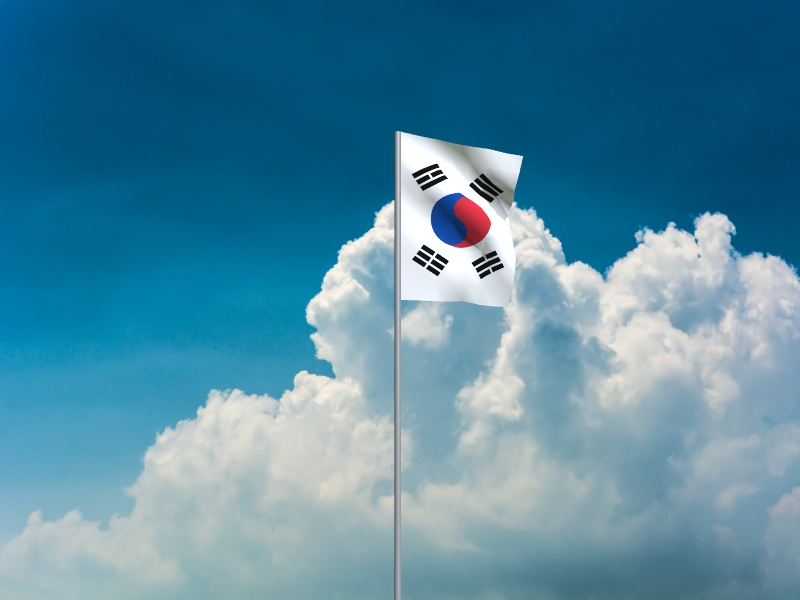kr: (402, 132, 525, 308)
